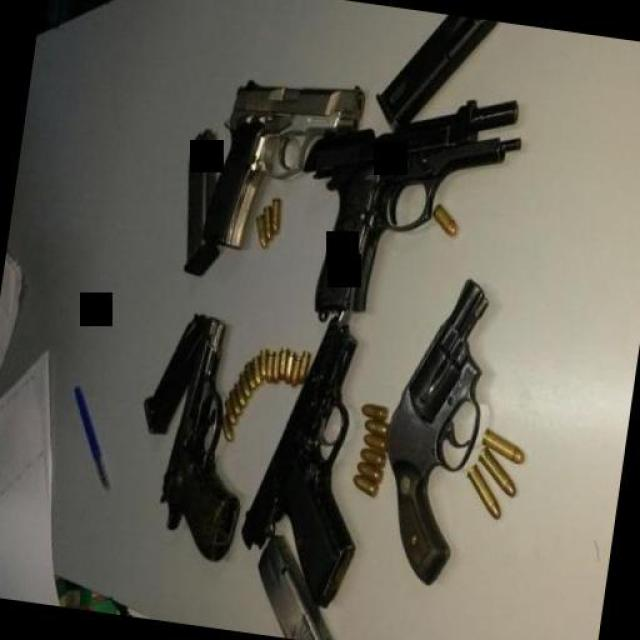gun: (300, 69, 526, 345), (232, 295, 382, 606), (365, 267, 501, 585), (194, 61, 370, 264), (150, 313, 264, 566)
